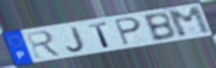B: (142, 11, 178, 43)
J: (65, 25, 86, 53)
M: (166, 5, 214, 39)
P: (112, 16, 143, 47)
R: (24, 29, 64, 60)
T: (87, 21, 111, 49)
